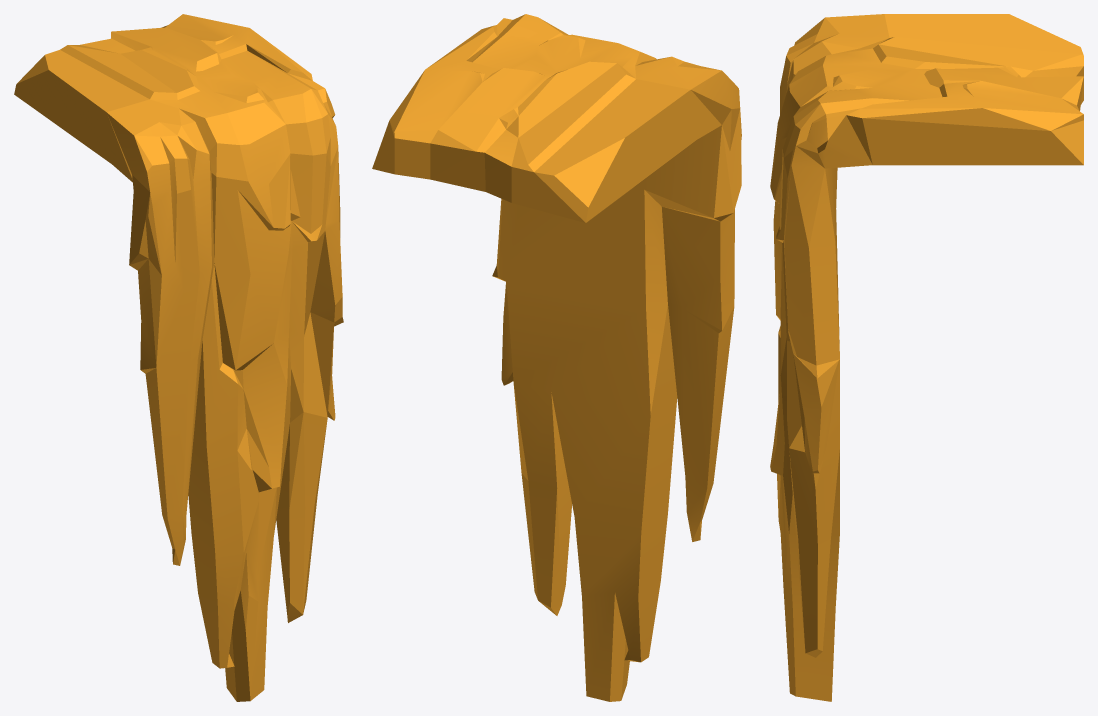
Rendered from SM_Ice_Waterfall_A.fbx.
The picture shows the model from 3 angles, left to right: view 1: azimuth 30°, elevation 25°; view 2: azimuth 150°, elevation 25°; view 3: azimuth 270°, elevation 25°; orthographic projection. The views are drawn at different scales.
Visible parts, largest first — view 1: ice-waterfall-a; view 2: ice-waterfall-a; view 3: ice-waterfall-a.
Boxes of the visible parts, x1,y1,x2,y2 form: ice-waterfall-a: (14, 14, 343, 701); ice-waterfall-a: (372, 14, 741, 701); ice-waterfall-a: (770, 14, 1083, 701).
Bounding box in the file's own units: 1.35 × 3.58 × 1.59.
